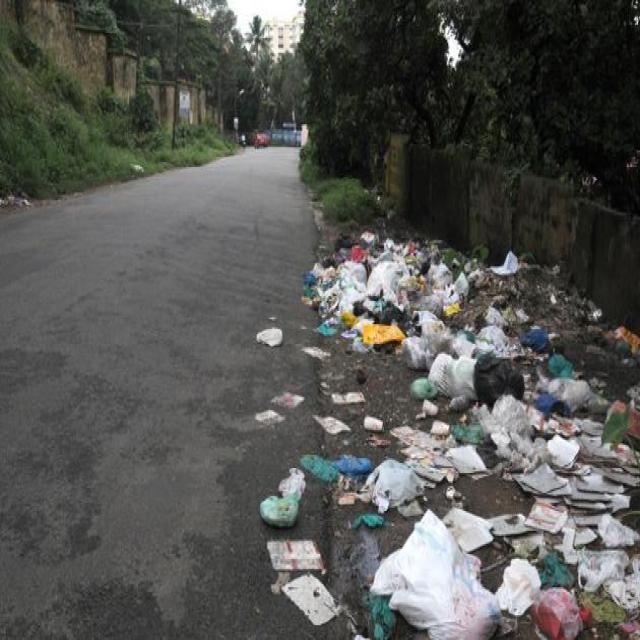trash: (259, 232, 640, 640)
